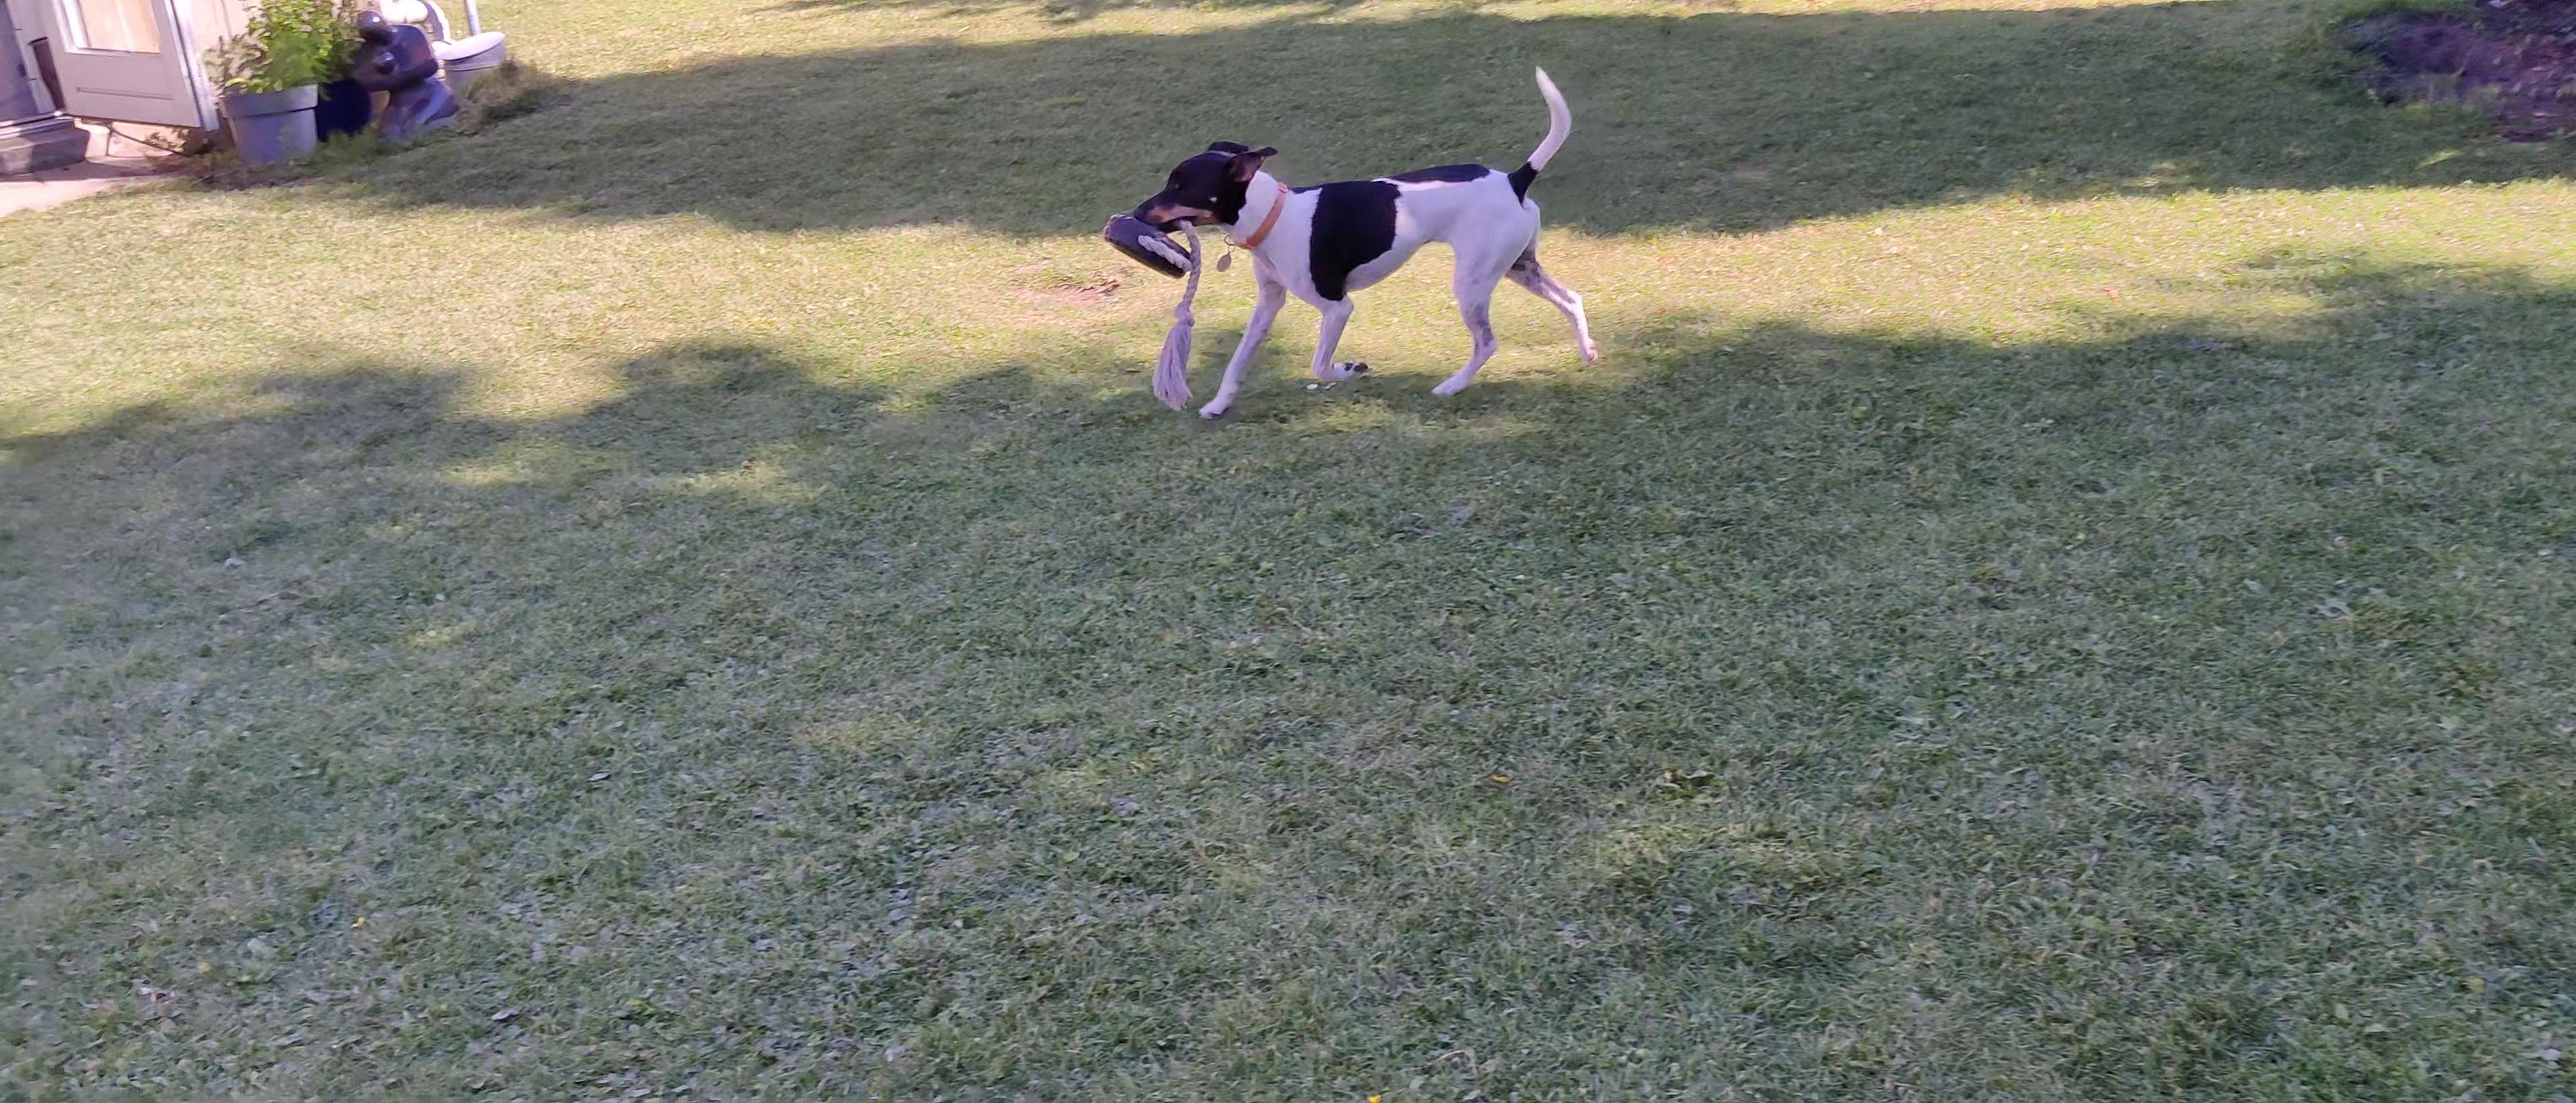Dog: (1130, 59, 1603, 424)
